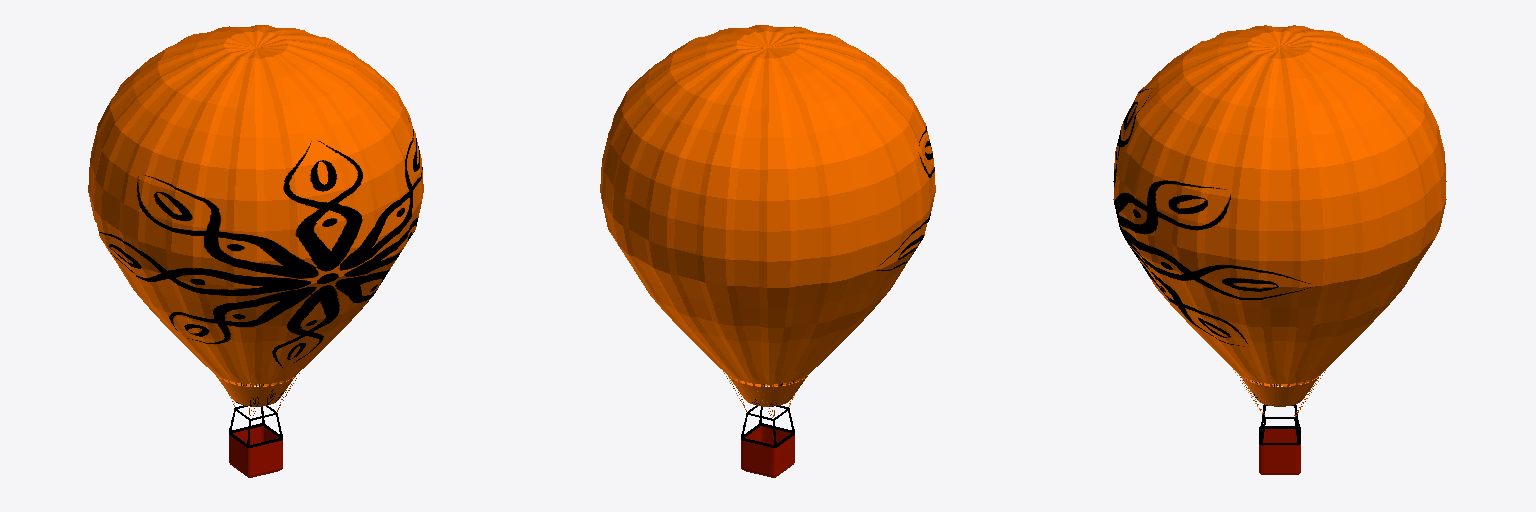
3 views of the same model, side by side, from view 1: azimuth 30°, elevation 25°; view 2: azimuth 150°, elevation 25°; view 3: azimuth 270°, elevation 25° (orthographic).
Parts seen in each view (by area): view 1: J1_Sphere001, J1_Box001, J1_Object001; view 2: J1_Sphere001, J1_Box001, J1_Object001; view 3: J1_Sphere001, J1_Box001, J1_Object001.
Part boxes in pixels (x1,y1,x2,y2): J1_Sphere001: (88,25,423,384); J1_Box001: (229,426,282,477); J1_Object001: (215,374,295,406); J1_Sphere001: (600,25,935,384); J1_Box001: (741,426,794,477); J1_Object001: (728,374,808,406); J1_Sphere001: (1113,25,1446,383); J1_Box001: (1259,429,1300,474); J1_Object001: (1241,376,1318,406).
Bounding box in the file's own units: 9.56 × 13.4 × 9.56.
Materials: 5 (1 with a texture image).